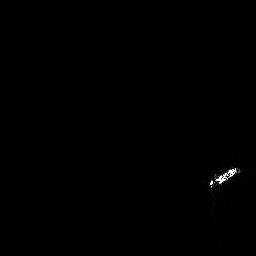ship: (207, 164, 243, 192)
